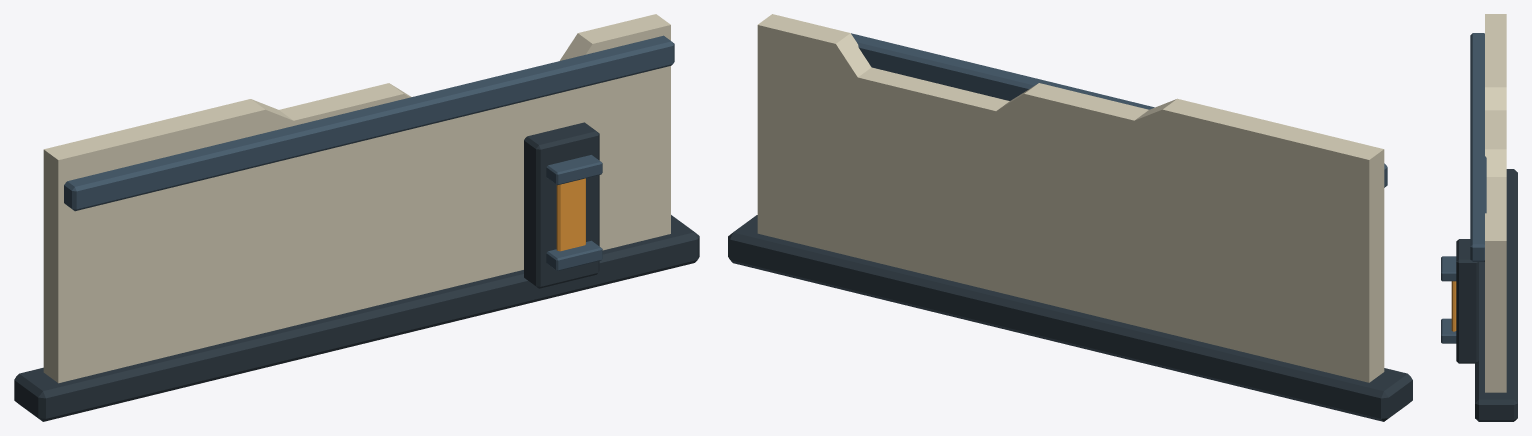
File: survey-rear-wall.glb
The picture shows the model from 3 angles, left to right: view 1: azimuth 30°, elevation 25°; view 2: azimuth 150°, elevation 25°; view 3: azimuth 270°, elevation 25°; orthographic projection. The views are drawn at different scales.
Parts seen in each view (by area): view 1: survey-rear-wall; view 2: survey-rear-wall; view 3: survey-rear-wall.
Part boxes in pixels (x1,y1,x2,y2): survey-rear-wall: (14, 14, 699, 421); survey-rear-wall: (728, 14, 1412, 421); survey-rear-wall: (1441, 14, 1517, 421).
Size of the model in its own units: 5.4 by 1.98 by 0.75.
1 material, 1 textured.
